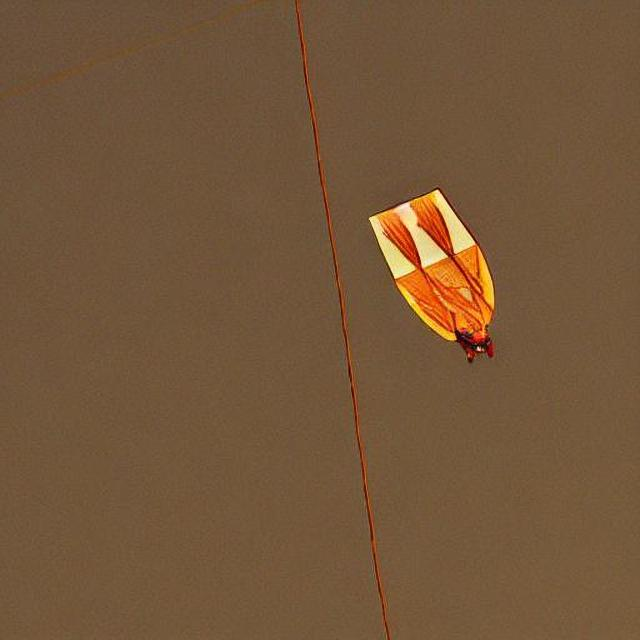floating object: (368, 187, 497, 360)
